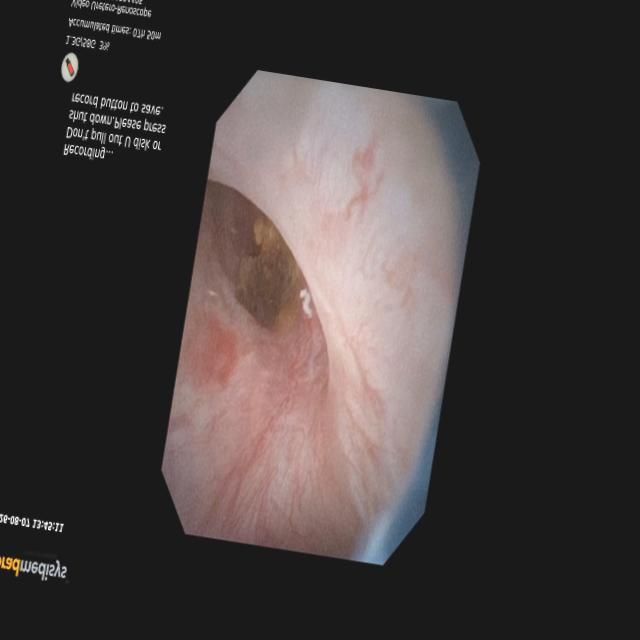stone-new: (235, 216, 302, 333)
